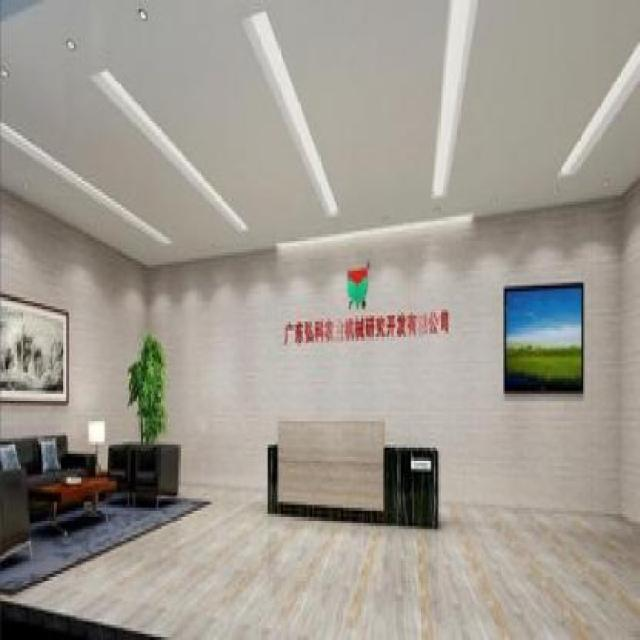frontdesk: (262, 396, 446, 546)
